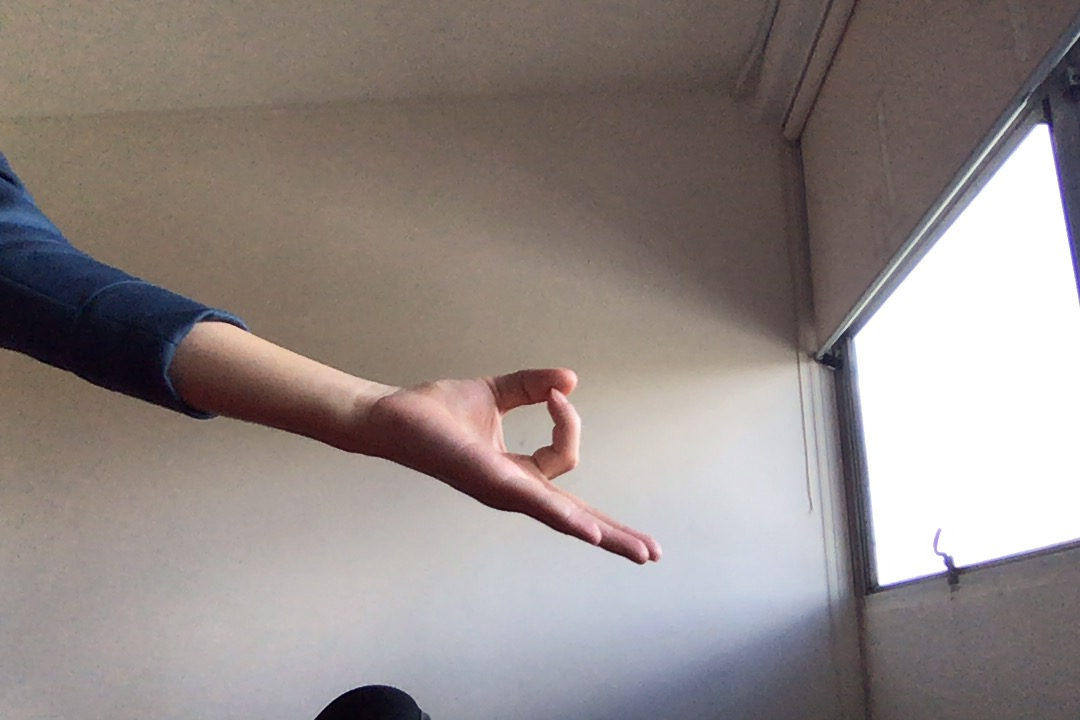oksign: (376, 360, 673, 576)
